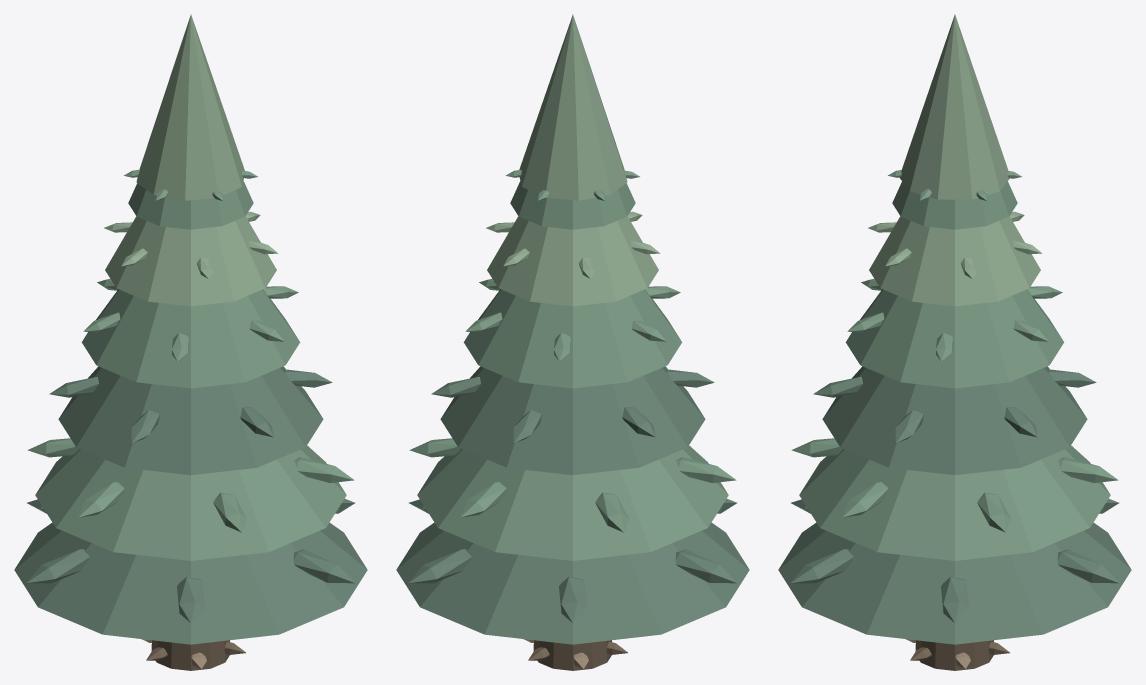
Rendered from tree-pine.glb.
3 views of the same model, side by side, from view 1: azimuth 30°, elevation 25°; view 2: azimuth 150°, elevation 25°; view 3: azimuth 270°, elevation 25° (orthographic).
Parts seen in each view (by area): view 1: tree-pine; view 2: tree-pine; view 3: tree-pine.
Boxes of the visible parts, x1,y1,x2,y2 form: tree-pine: (14,14,367,670); tree-pine: (396,14,749,670); tree-pine: (778,14,1131,670).
Size of the model in its own units: 3.27 by 6.08 by 3.04.
